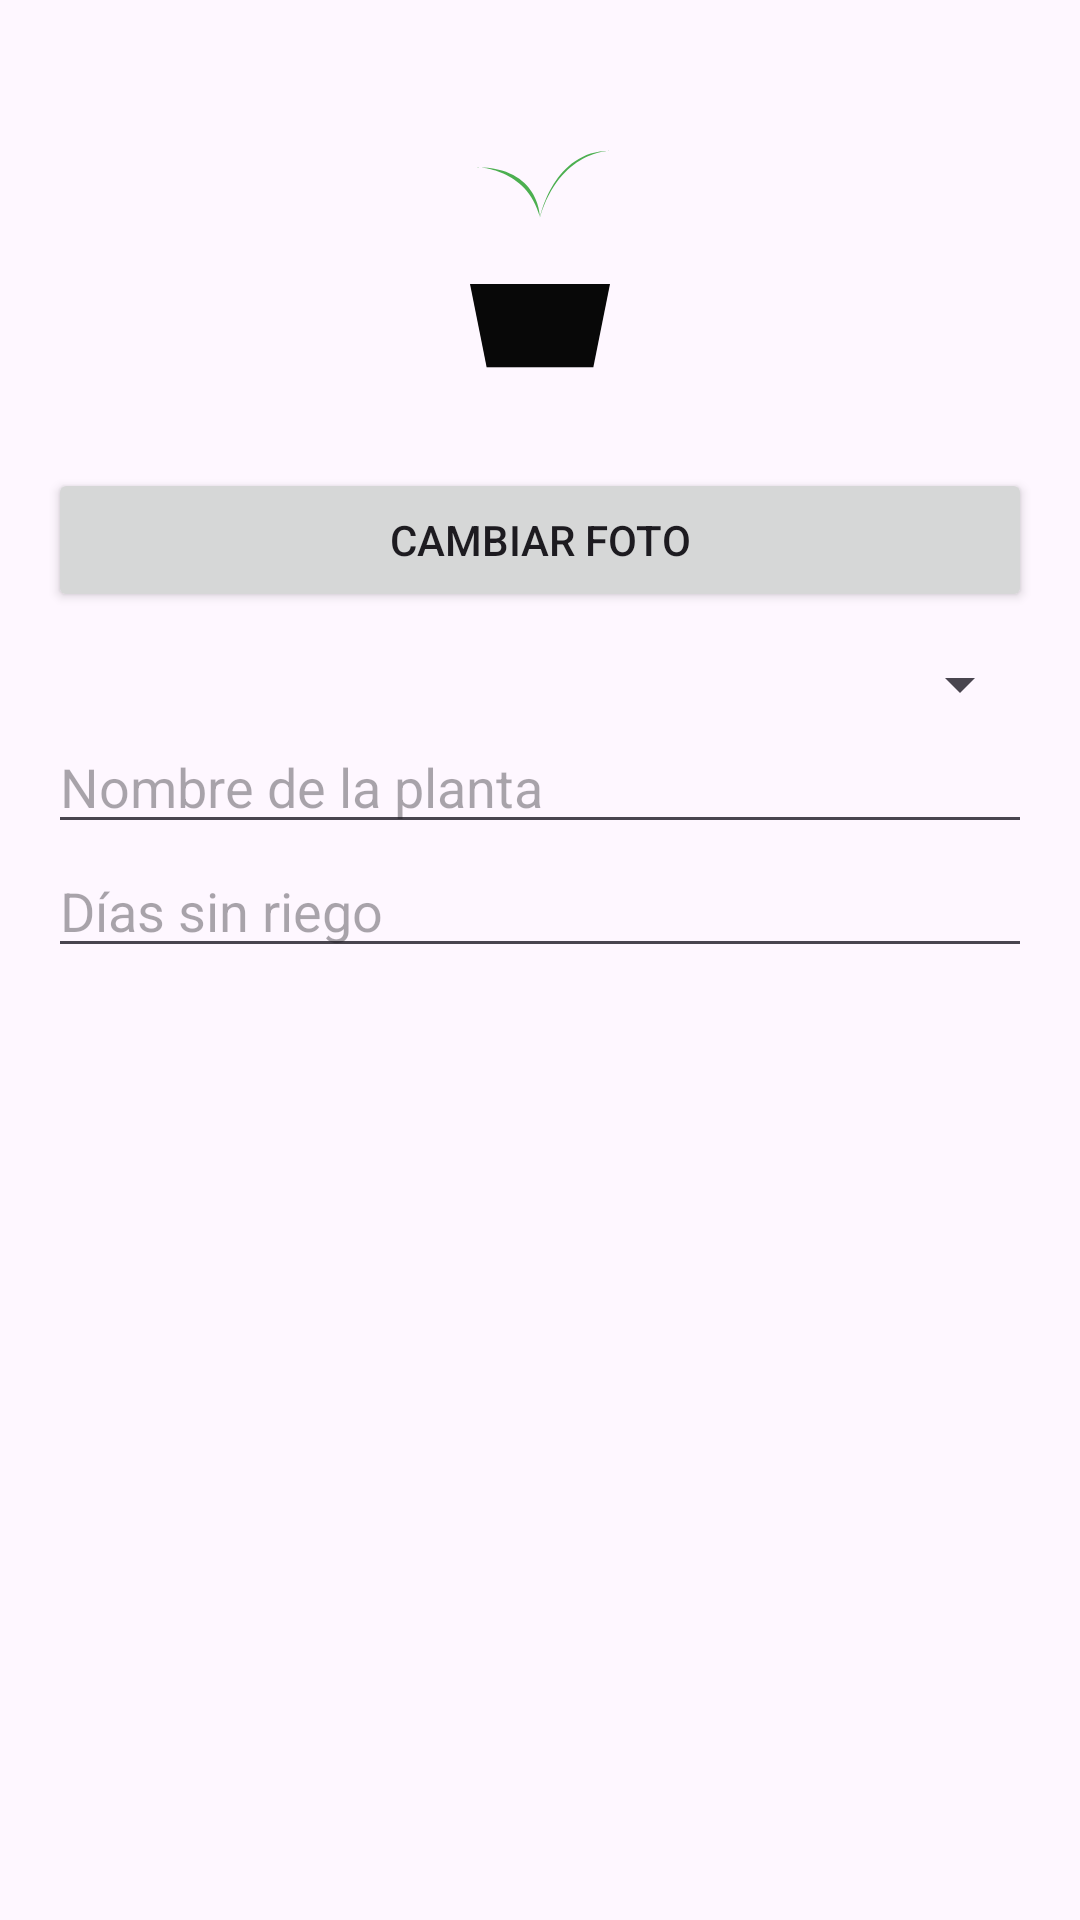

Where to tap for icons on this 1080w x 1920h app screen, as (x=x, y=y):
planta: (x=540, y=259)
